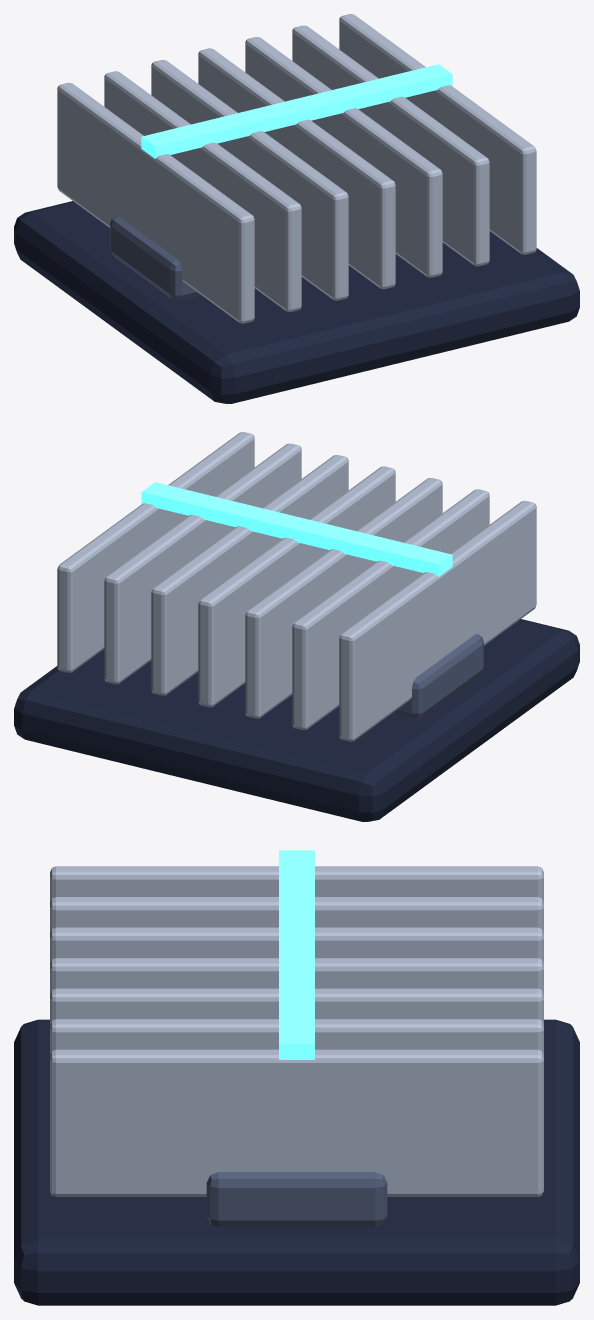
Rendered from mod_radiator.glb.
3 renders of one model, top to bottom at view 1: azimuth 30°, elevation 25°; view 2: azimuth 150°, elevation 25°; view 3: azimuth 270°, elevation 25°, orthographic. The views are drawn at different scales.
Parts seen in each view (by area): view 1: mod_radiator; view 2: mod_radiator; view 3: mod_radiator.
Boxes of the visible parts, x1,y1,x2,y2 form: mod_radiator: (14,14,579,403); mod_radiator: (14,432,579,821); mod_radiator: (14,850,579,1305).
Bounding box in the file's own units: 0.94 × 0.455 × 0.94.
